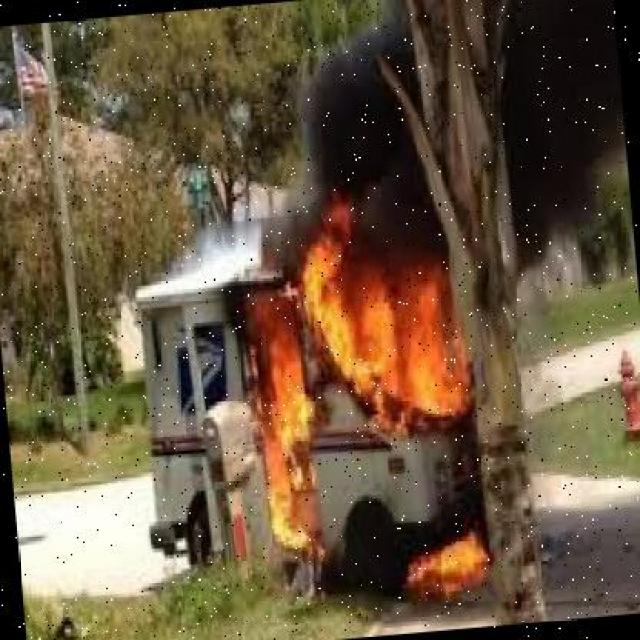fire: (248, 204, 484, 542), (396, 512, 498, 612)
